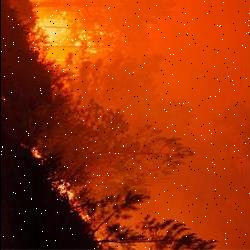fire: (14, 0, 109, 97)
